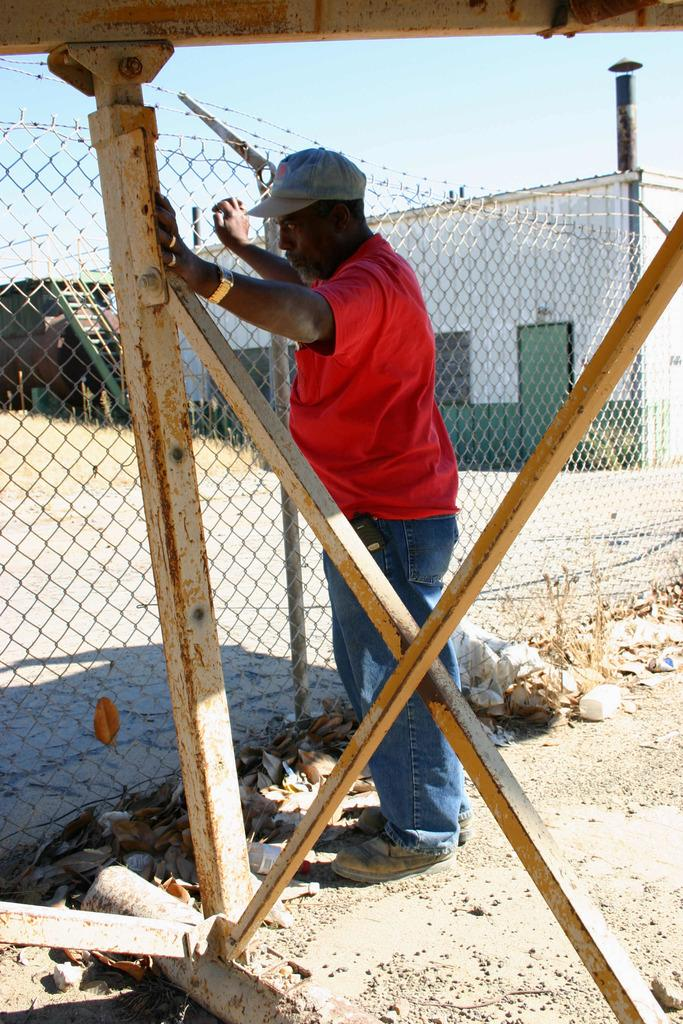Hat: (246, 147, 365, 221)
